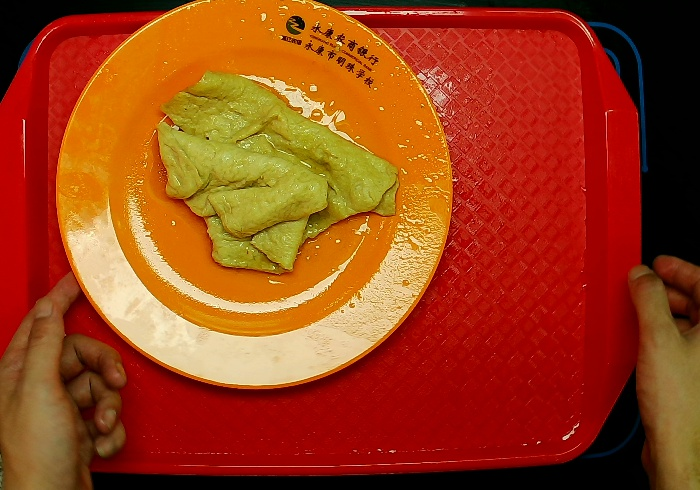YKMZ-Ju_Se_Mian_Pan: (52, 1, 454, 389)
